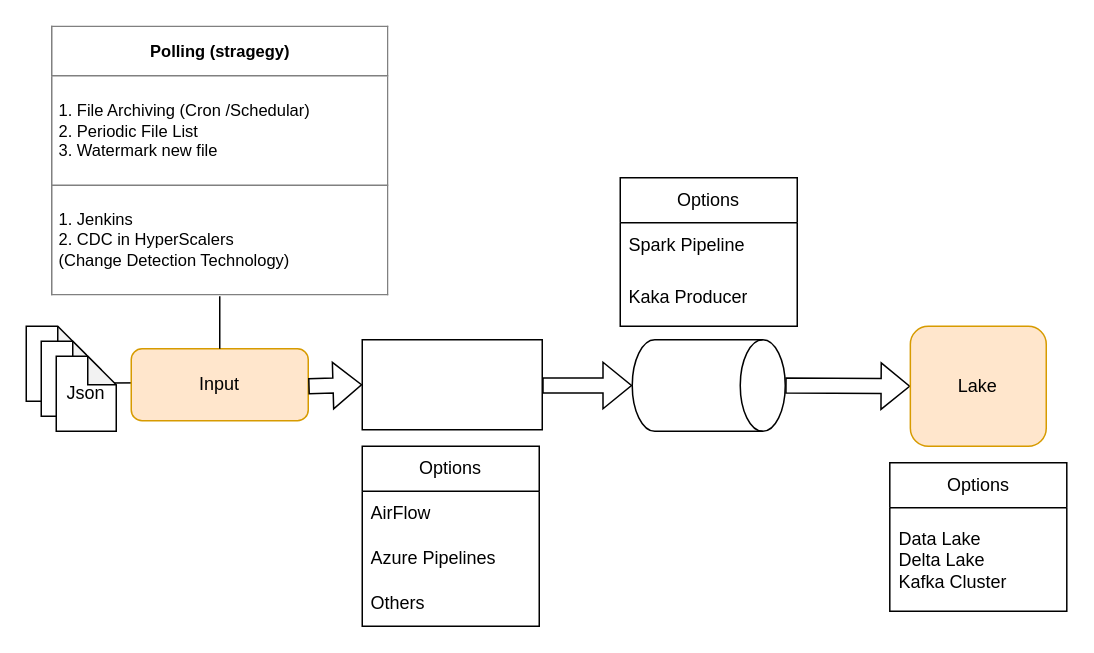
This 1094x653 diagram has some shape labels left out. The centre of each missing label's shape, as x and y in pixels:
"Pipeline" belongs at point 708,384.
"Worflow Management" belongs at point 451,384.
